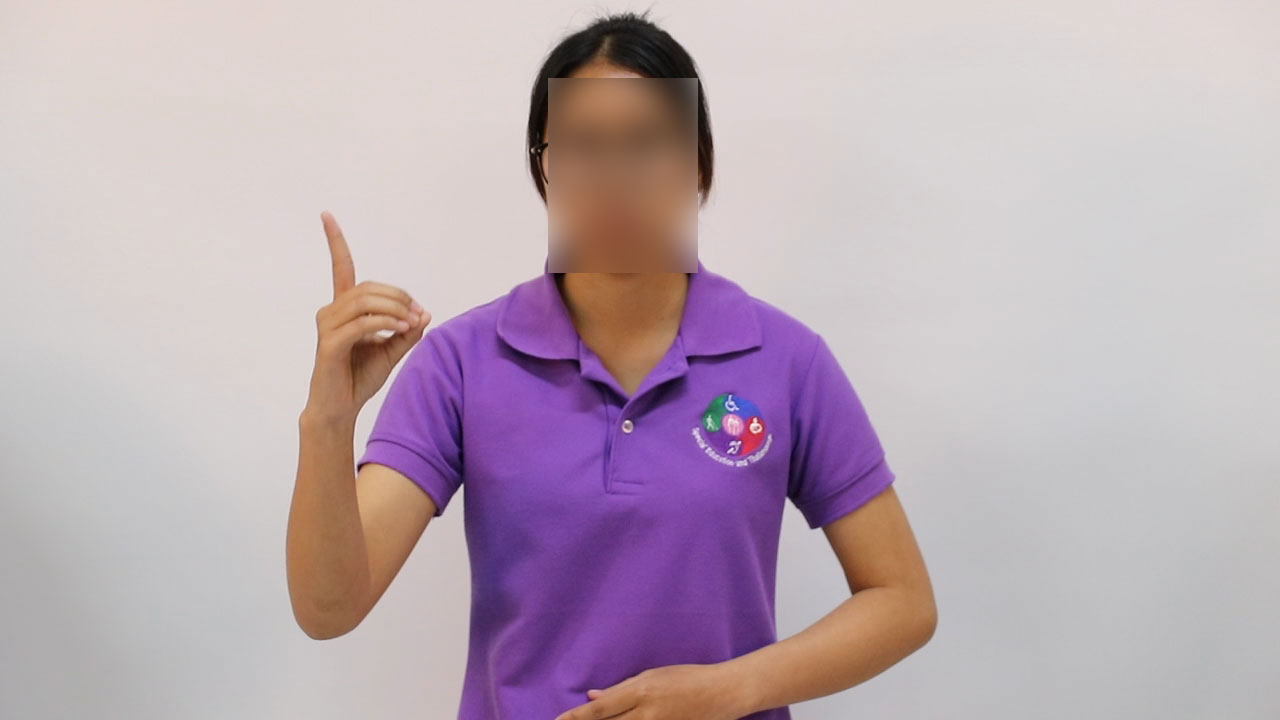dor: (296, 200, 440, 417)
